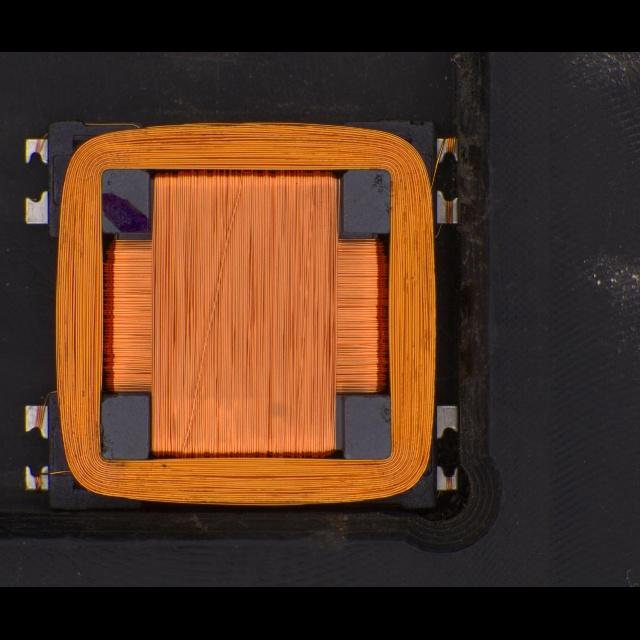Winding_Z: (50, 120, 439, 507)
